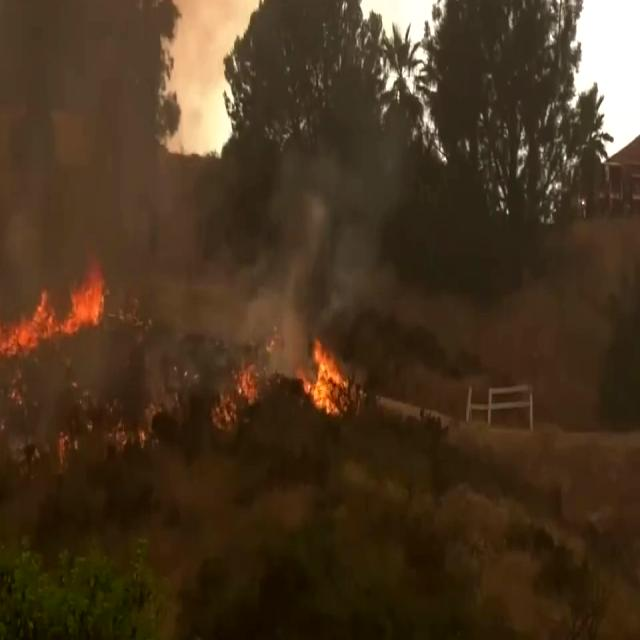fire: (0, 264, 107, 394)
smoke: (297, 134, 397, 335)
